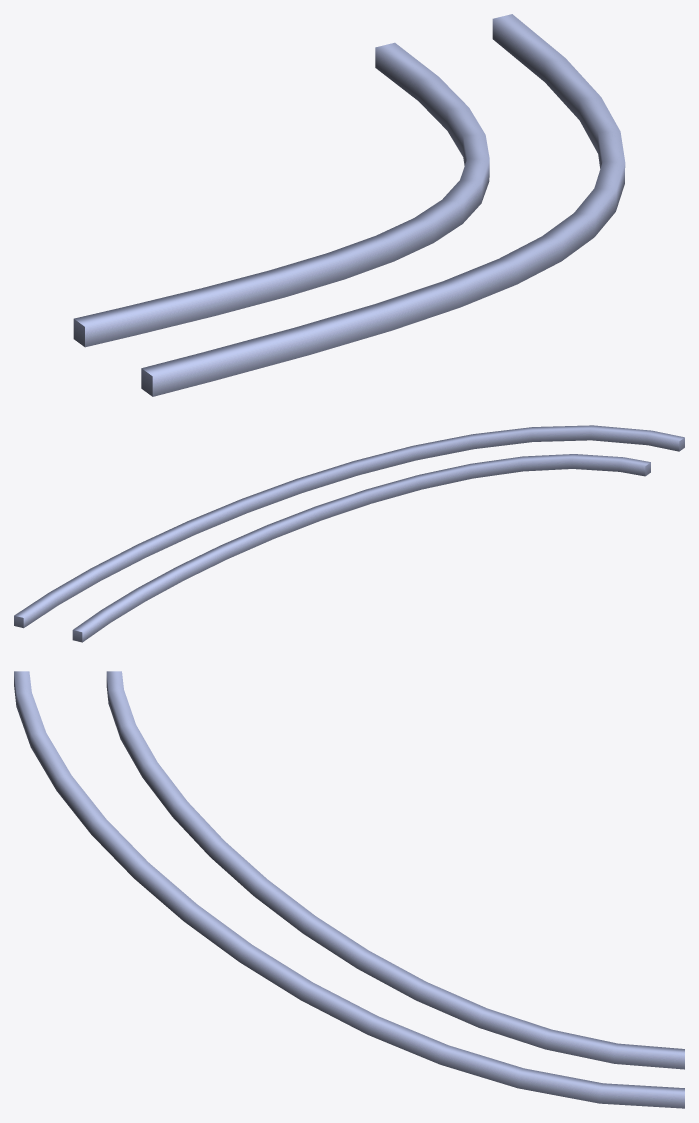
Rendered from railroad-rail-corner-large-ramp.glb.
3 views of the same model, one above another, from view 1: azimuth 30°, elevation 25°; view 2: azimuth 150°, elevation 25°; view 3: azimuth 270°, elevation 25° (orthographic). The views are drawn at different scales.
Visible parts, largest first — view 1: railroad-rail-corner-large-ramp; view 2: railroad-rail-corner-large-ramp; view 3: railroad-rail-corner-large-ramp.
Boxes of the visible parts, box(x1,y1,x2,y2) form: railroad-rail-corner-large-ramp: box(73, 14, 625, 396); railroad-rail-corner-large-ramp: box(14, 425, 684, 642); railroad-rail-corner-large-ramp: box(14, 671, 684, 1108).
Bounding box in the file's own units: 4.35 × 1.1 × 4.35.
Materials: 1 (1 with a texture image).
